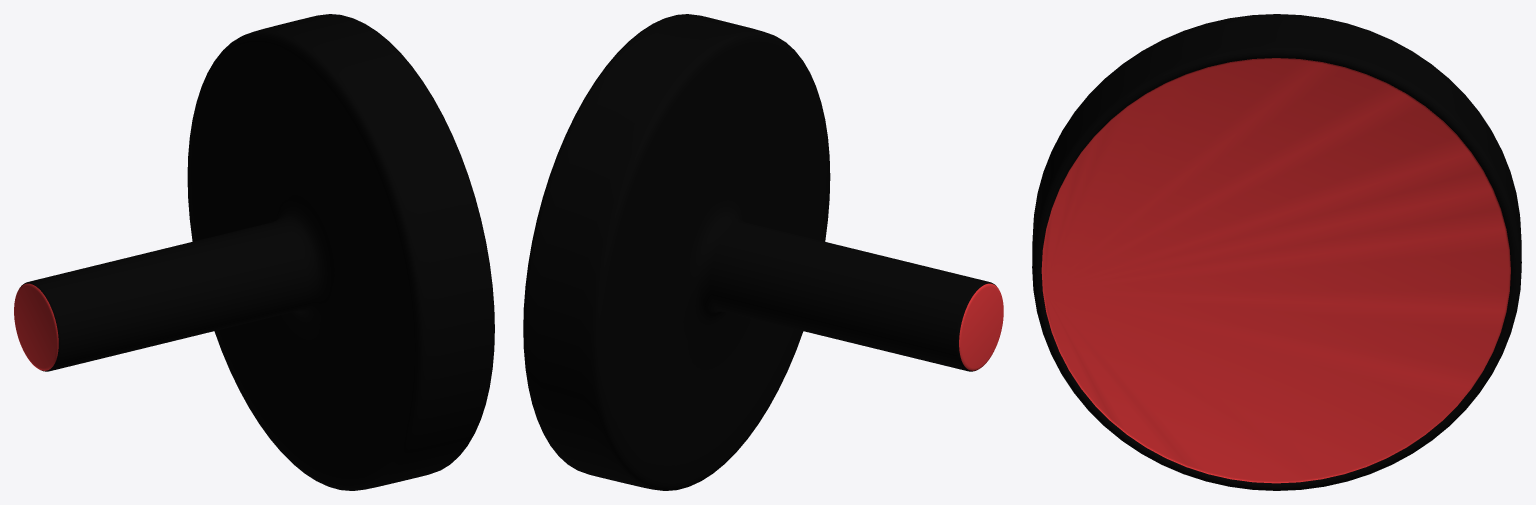
Rendered from CheckValve_test_invertSDF.fbx.
3 renders of one model, left to right at view 1: azimuth 30°, elevation 25°; view 2: azimuth 150°, elevation 25°; view 3: azimuth 270°, elevation 25°, orthographic. The views are drawn at different scales.
Parts seen in each view (by area): view 1: CheckValve_InversionSDFTest; view 2: CheckValve_InversionSDFTest; view 3: CheckValve_InversionSDFTest.
Boxes of the visible parts, x1,y1,x2,y2 form: CheckValve_InversionSDFTest: (14,14,494,490); CheckValve_InversionSDFTest: (523,14,1003,490); CheckValve_InversionSDFTest: (1032,14,1521,490).
Size of the model in its own units: 4.7 by 5.6 by 5.6.
